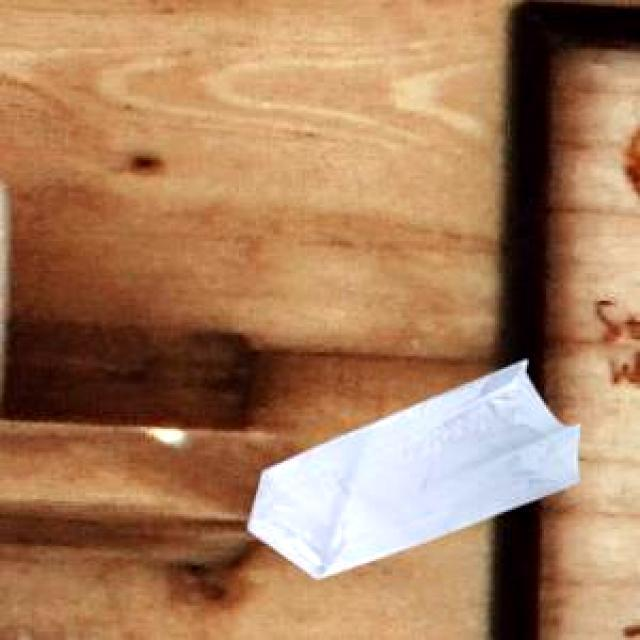Plastic_Bag: (244, 357, 577, 575)
